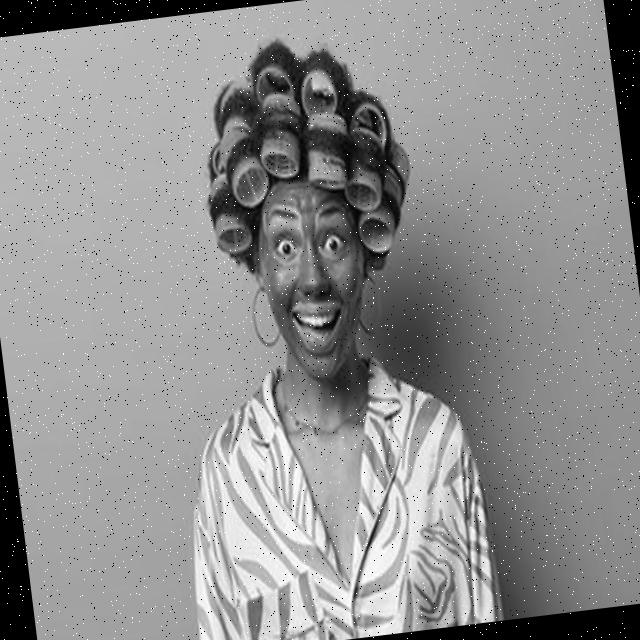Surprised: (248, 170, 380, 386)
